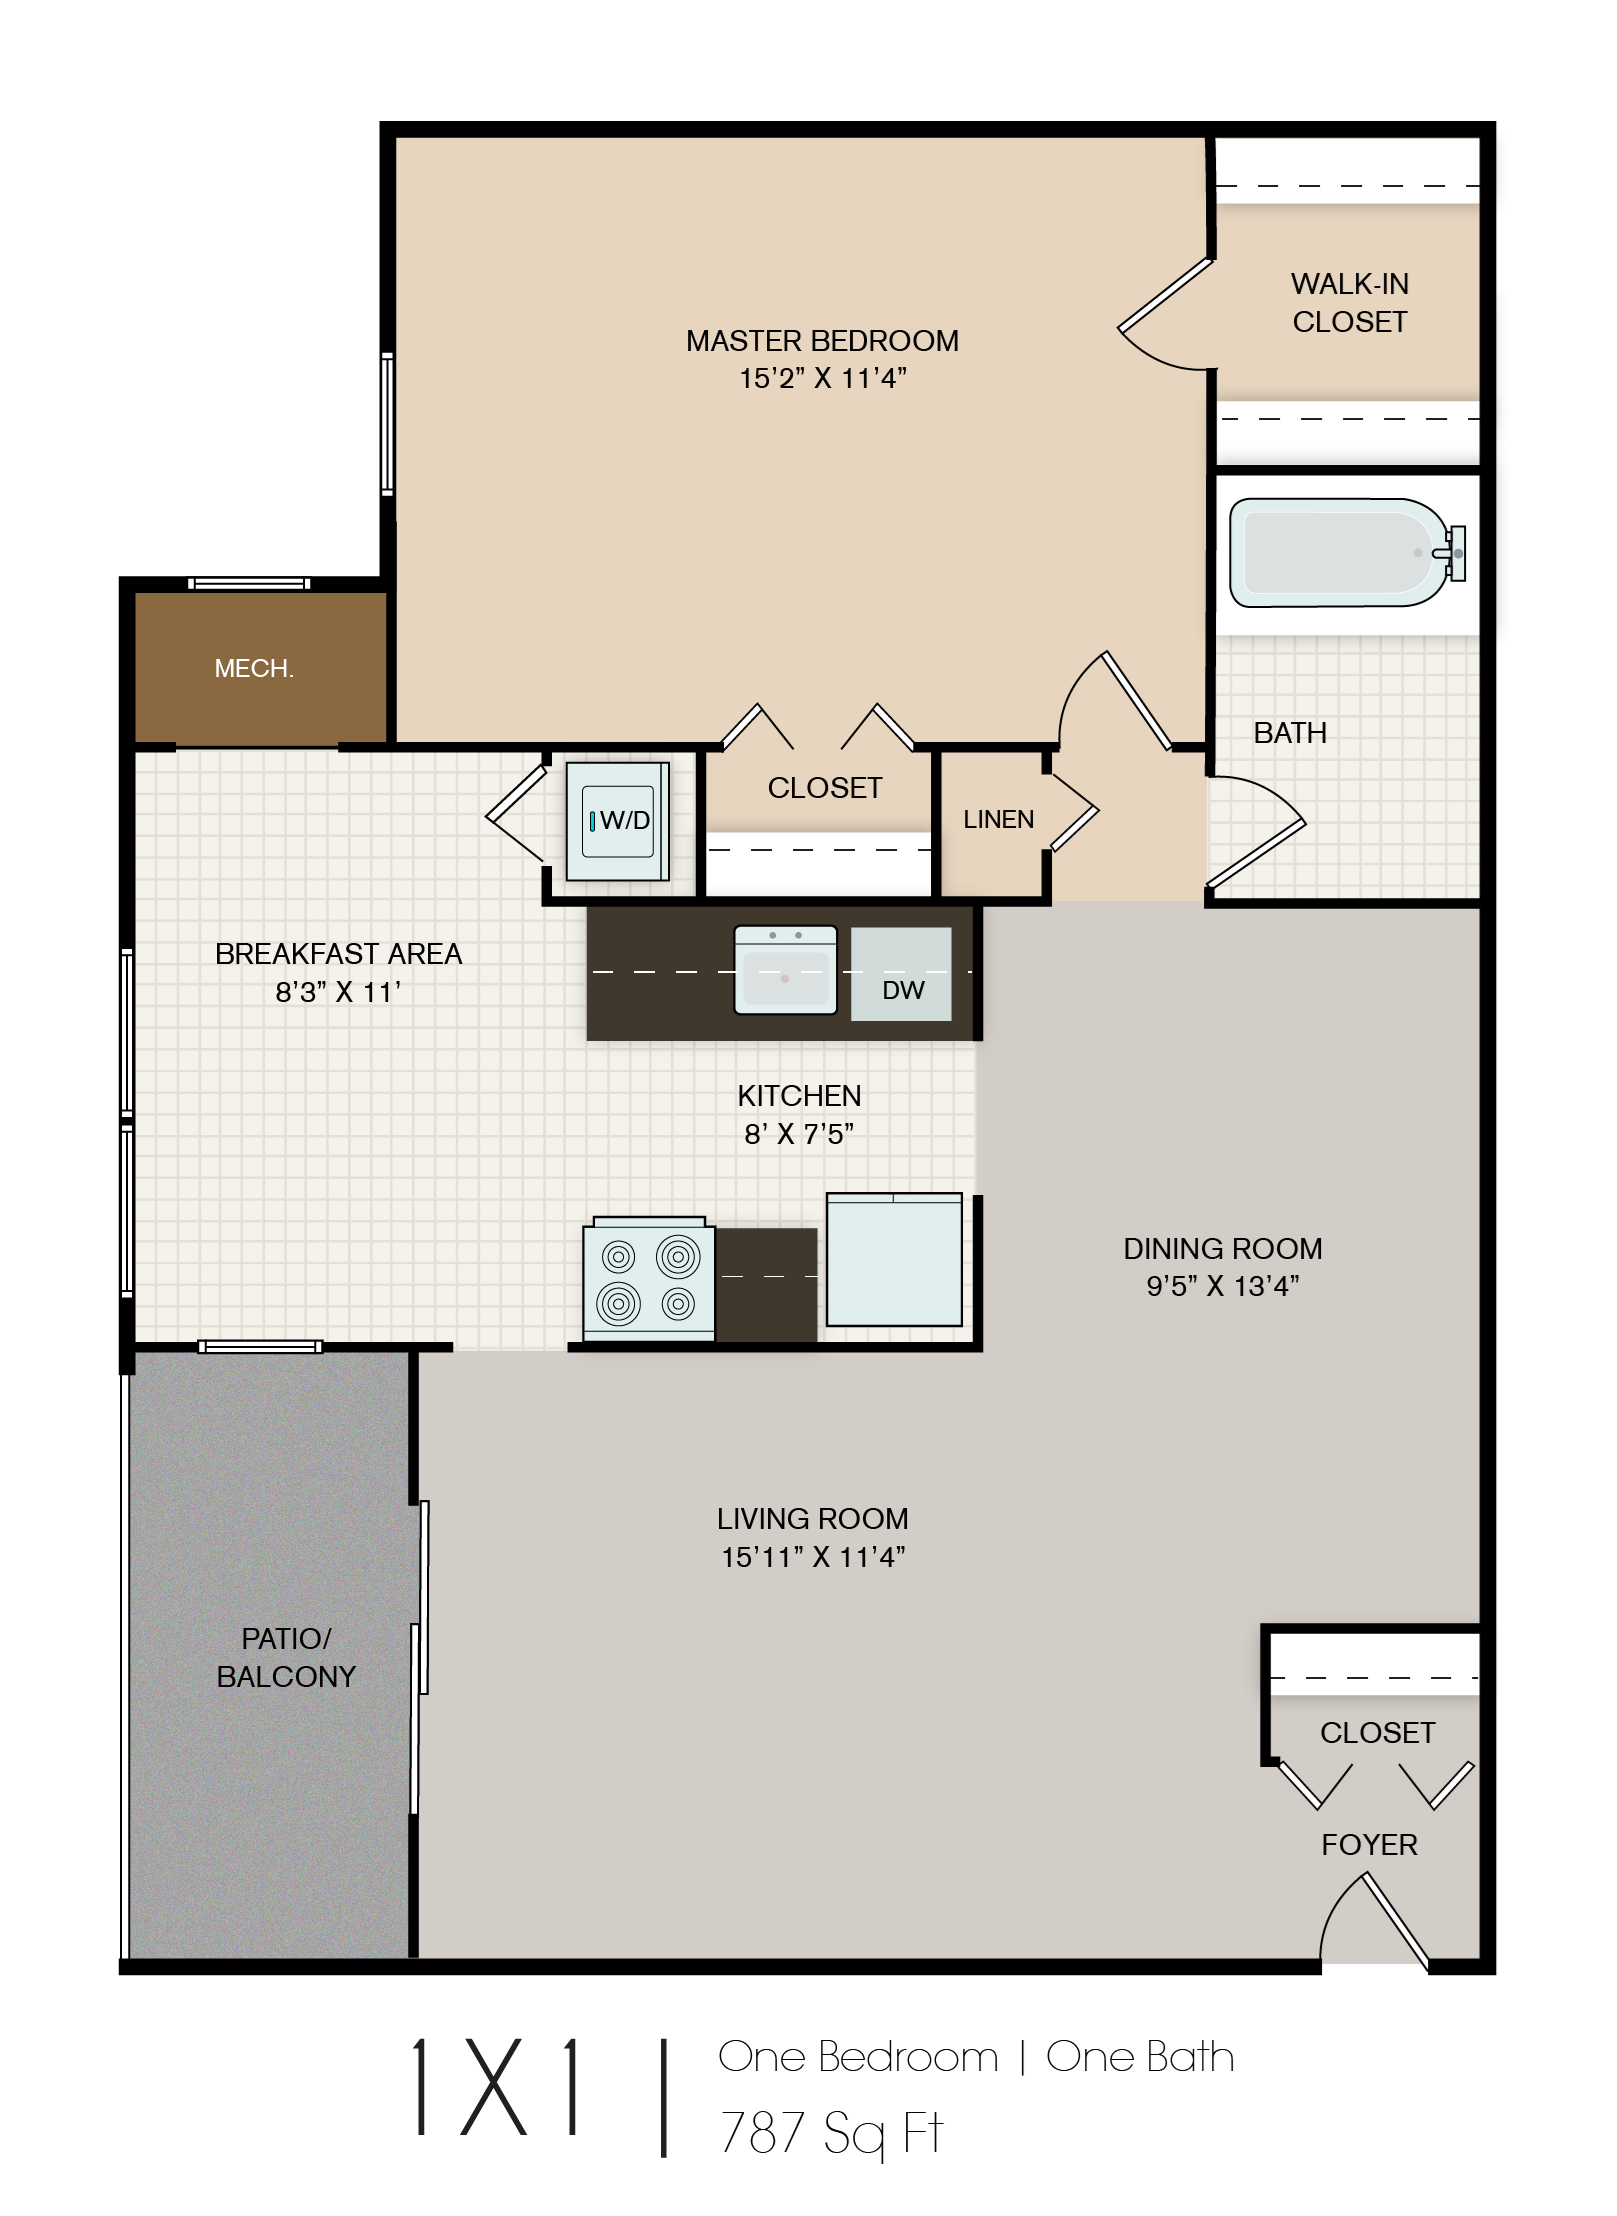window: (117, 946, 141, 1308), (181, 571, 317, 599), (189, 1337, 327, 1363), (378, 349, 399, 508)
